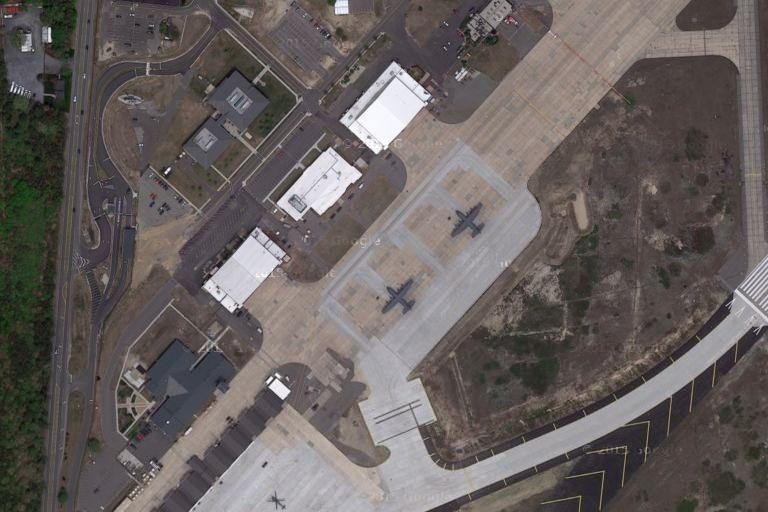C-130: (381, 277, 420, 317), (446, 203, 488, 240)
